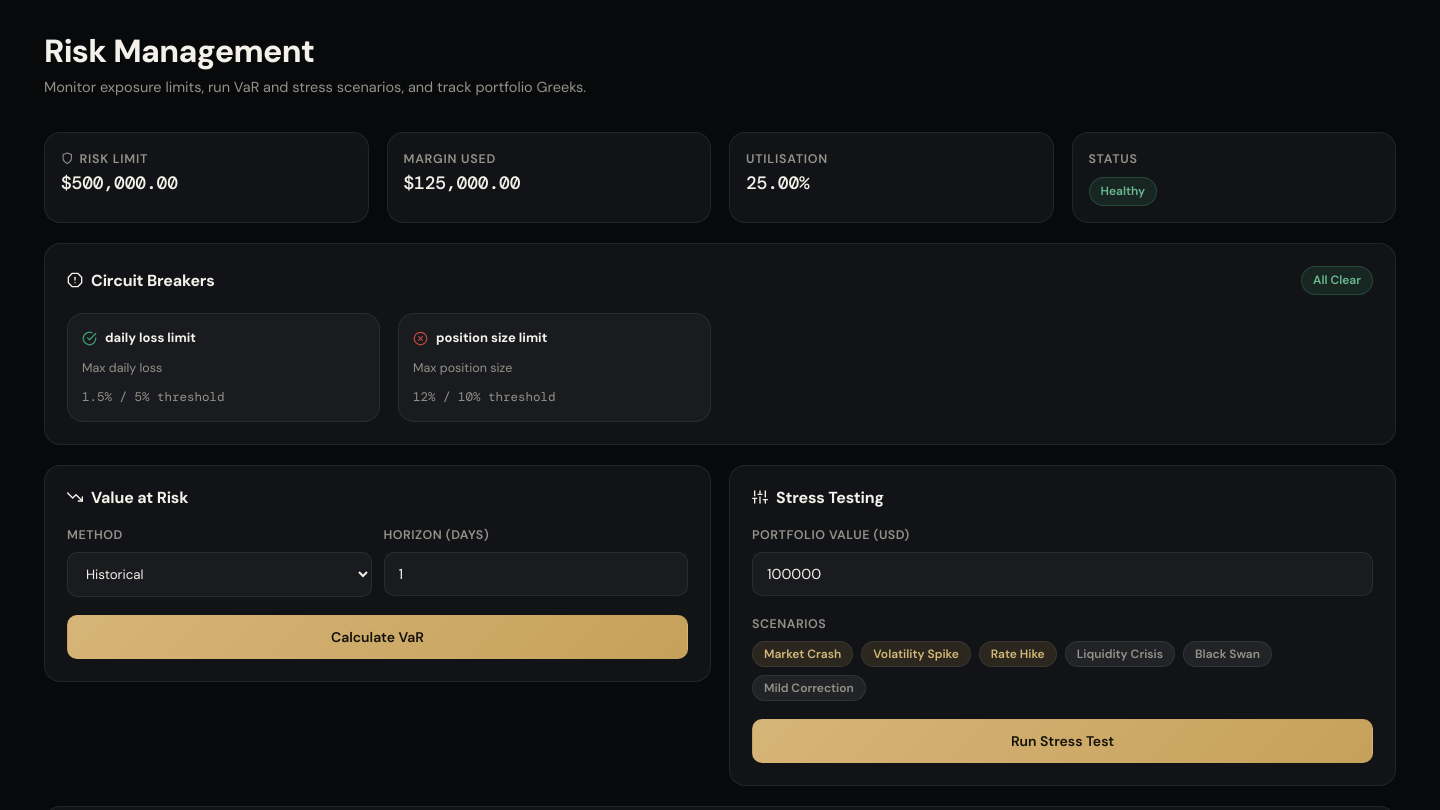
Scenario: Value at Risk › shows Calculating… while running
Expected: the heading "Circuit Breakers" is shown, [67,271,215,290]
What coordinates should you click on to do the following:
click the button "Calculate VaR"
I would click on:
 (378, 637)
Its box is [67,615,688,659].
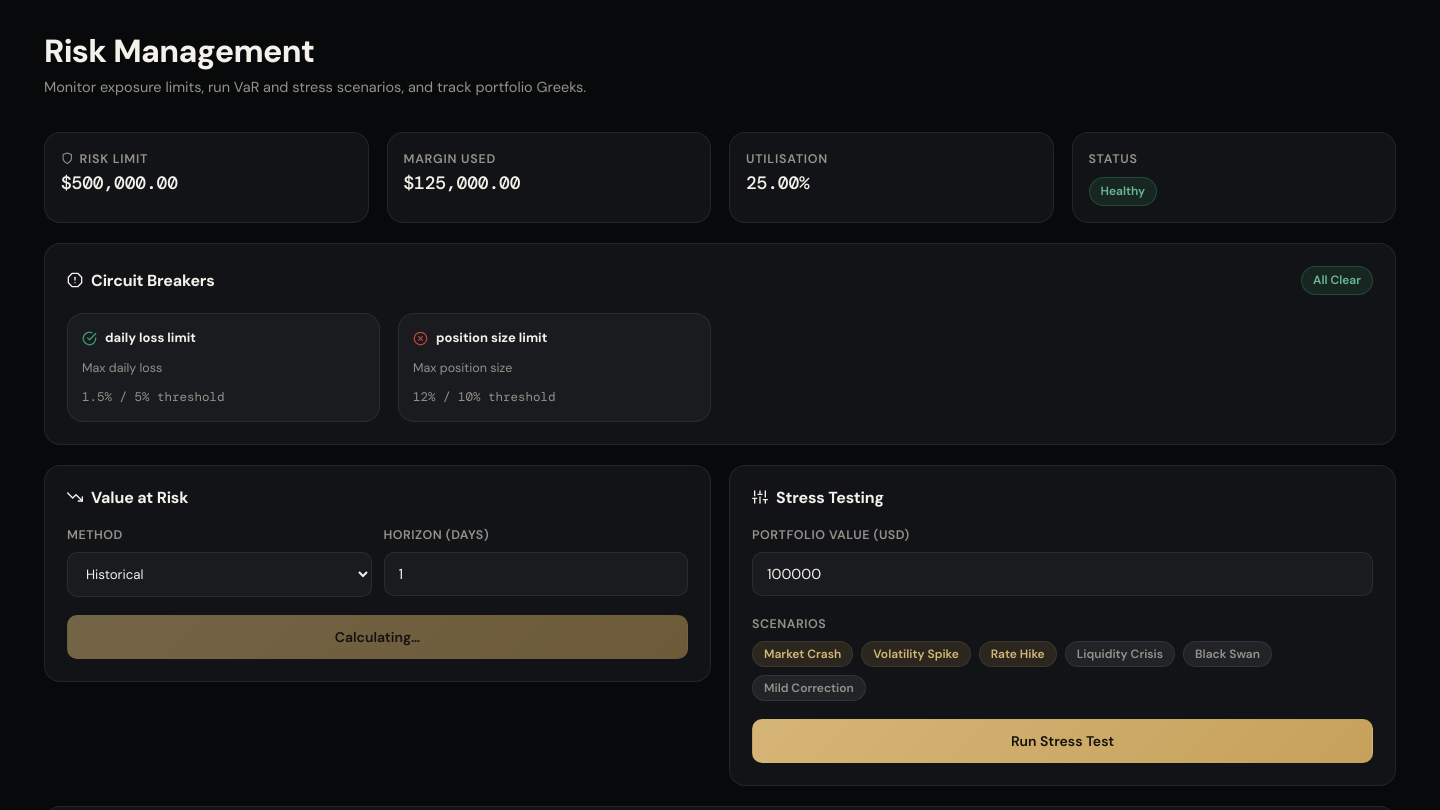
Expected: the button "Calculating…" is disabled, [67,615,688,659]
